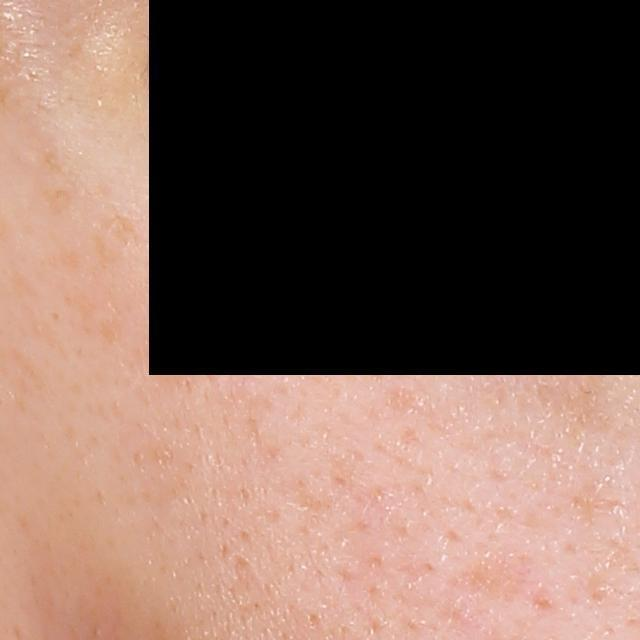melasma: (143, 299, 239, 392), (532, 365, 634, 438), (437, 555, 536, 608), (101, 209, 142, 244), (39, 245, 86, 275), (39, 186, 75, 217), (97, 315, 127, 345)
